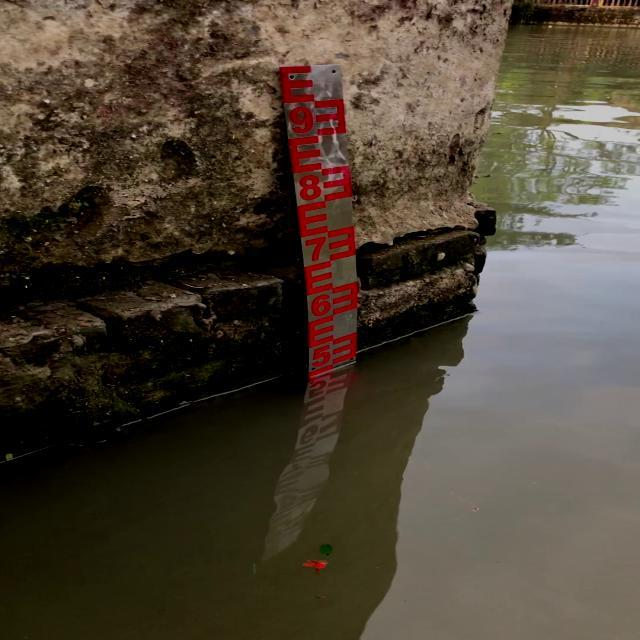ruler: (270, 52, 379, 388)
value: (292, 170, 327, 207), (286, 101, 319, 138), (300, 232, 332, 266), (308, 290, 337, 320), (307, 340, 333, 370)
